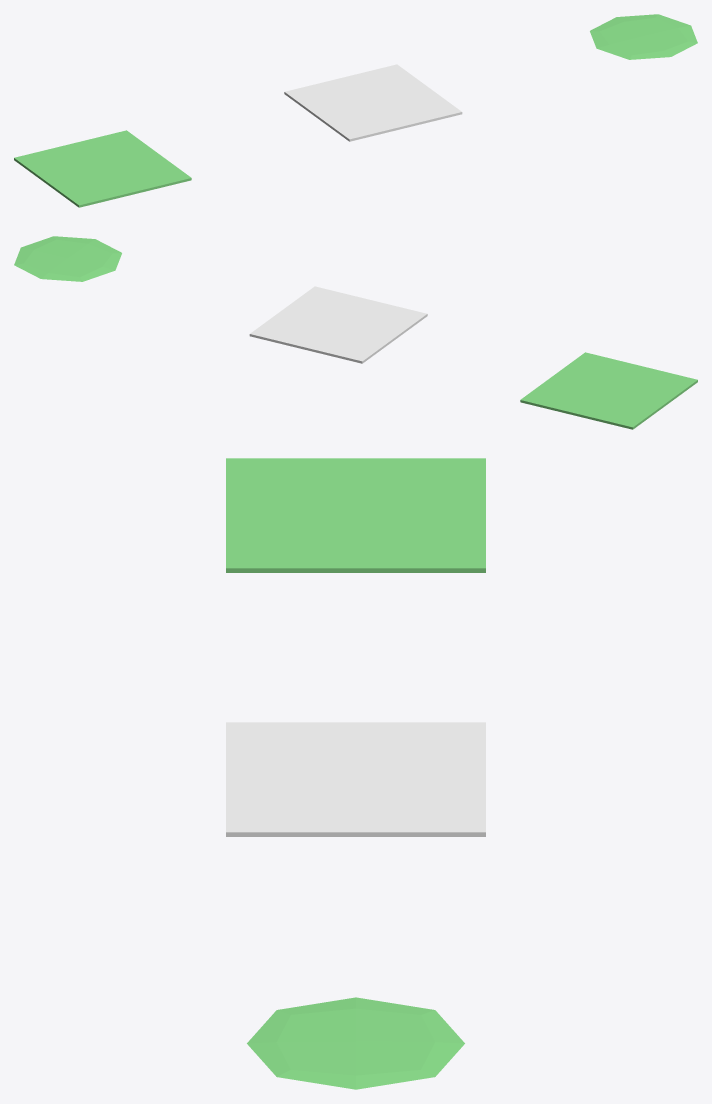
The model's file is terrain-tiles.glb.
3 views of the same model, one above another, from view 1: azimuth 30°, elevation 25°; view 2: azimuth 150°, elevation 25°; view 3: azimuth 270°, elevation 25° (orthographic). The views are drawn at different scales.
Parts seen in each view (by area): view 1: Flat_Tile, Slope_Tile, Curve_Tile; view 2: Flat_Tile, Slope_Tile, Curve_Tile; view 3: Flat_Tile, Slope_Tile, Curve_Tile.
Boxes of the visible parts, left/top/right/bottom form: Flat_Tile: left=14, top=130, right=191, bottom=207; Slope_Tile: left=284, top=64, right=462, bottom=141; Curve_Tile: left=590, top=14, right=697, bottom=59; Flat_Tile: left=520, top=352, right=697, bottom=429; Slope_Tile: left=249, top=286, right=427, bottom=363; Curve_Tile: left=14, top=236, right=121, bottom=281; Flat_Tile: left=226, top=458, right=485, bottom=572; Slope_Tile: left=226, top=722, right=485, bottom=836; Curve_Tile: left=247, top=997, right=464, bottom=1089.
Bounding box in the file's own units: 28.6 × 0.1001 × 5.
